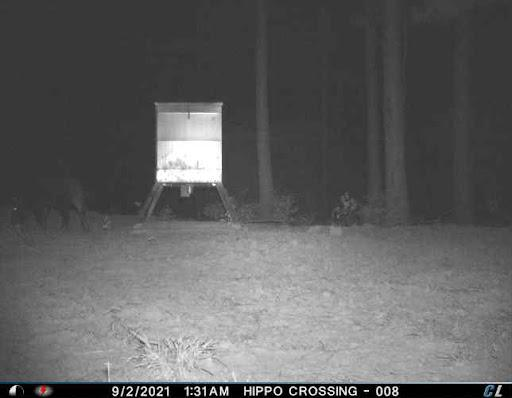Hog: (8, 165, 92, 239)
